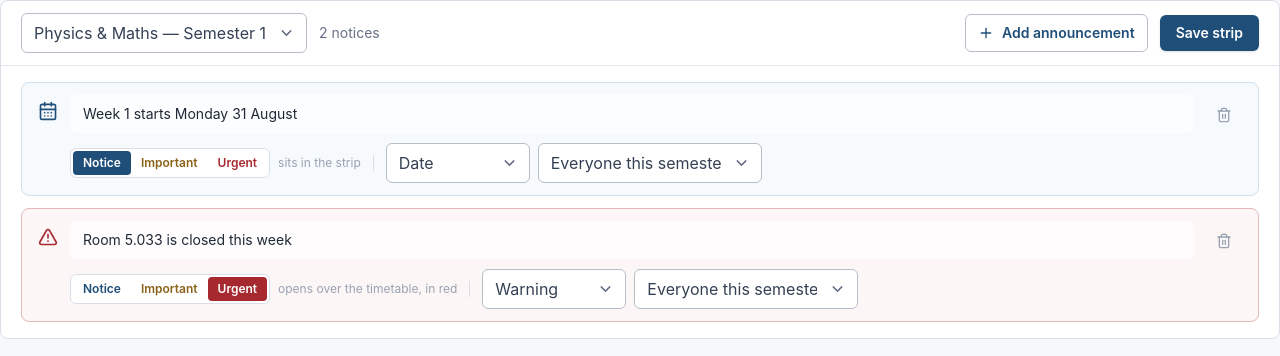
Test: who a notice is for › offers the semester's cohorts as well as everyone in it
The image size is (1280, 356).
Check: the number of fields named "Announcement" is 2, box [70,95,1194,133]; [70,221,1194,259]
Click the dropdown named "Who sees it" at (650, 163), box [538,143,762,183]
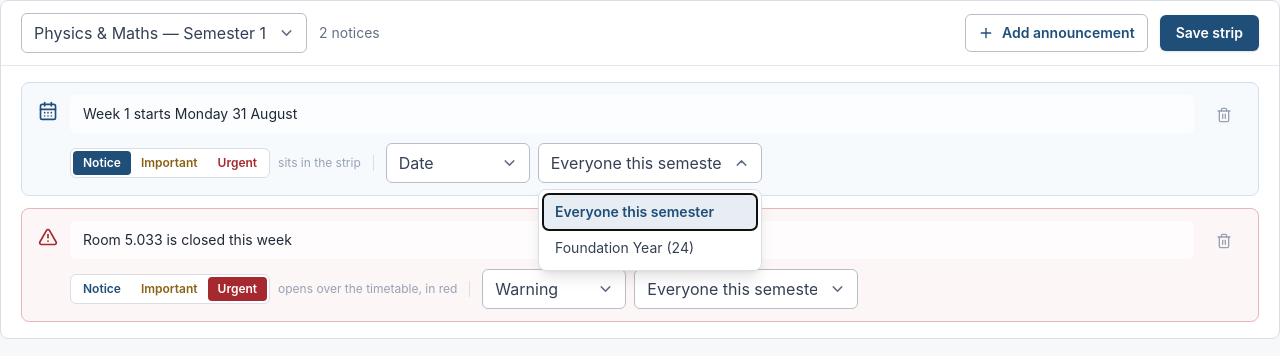
Check: the option "Everyone this semester" is shown, box [543,194,757,230]
Check: the option "Foundation Year (24)" is shown, box [543,230,757,266]
